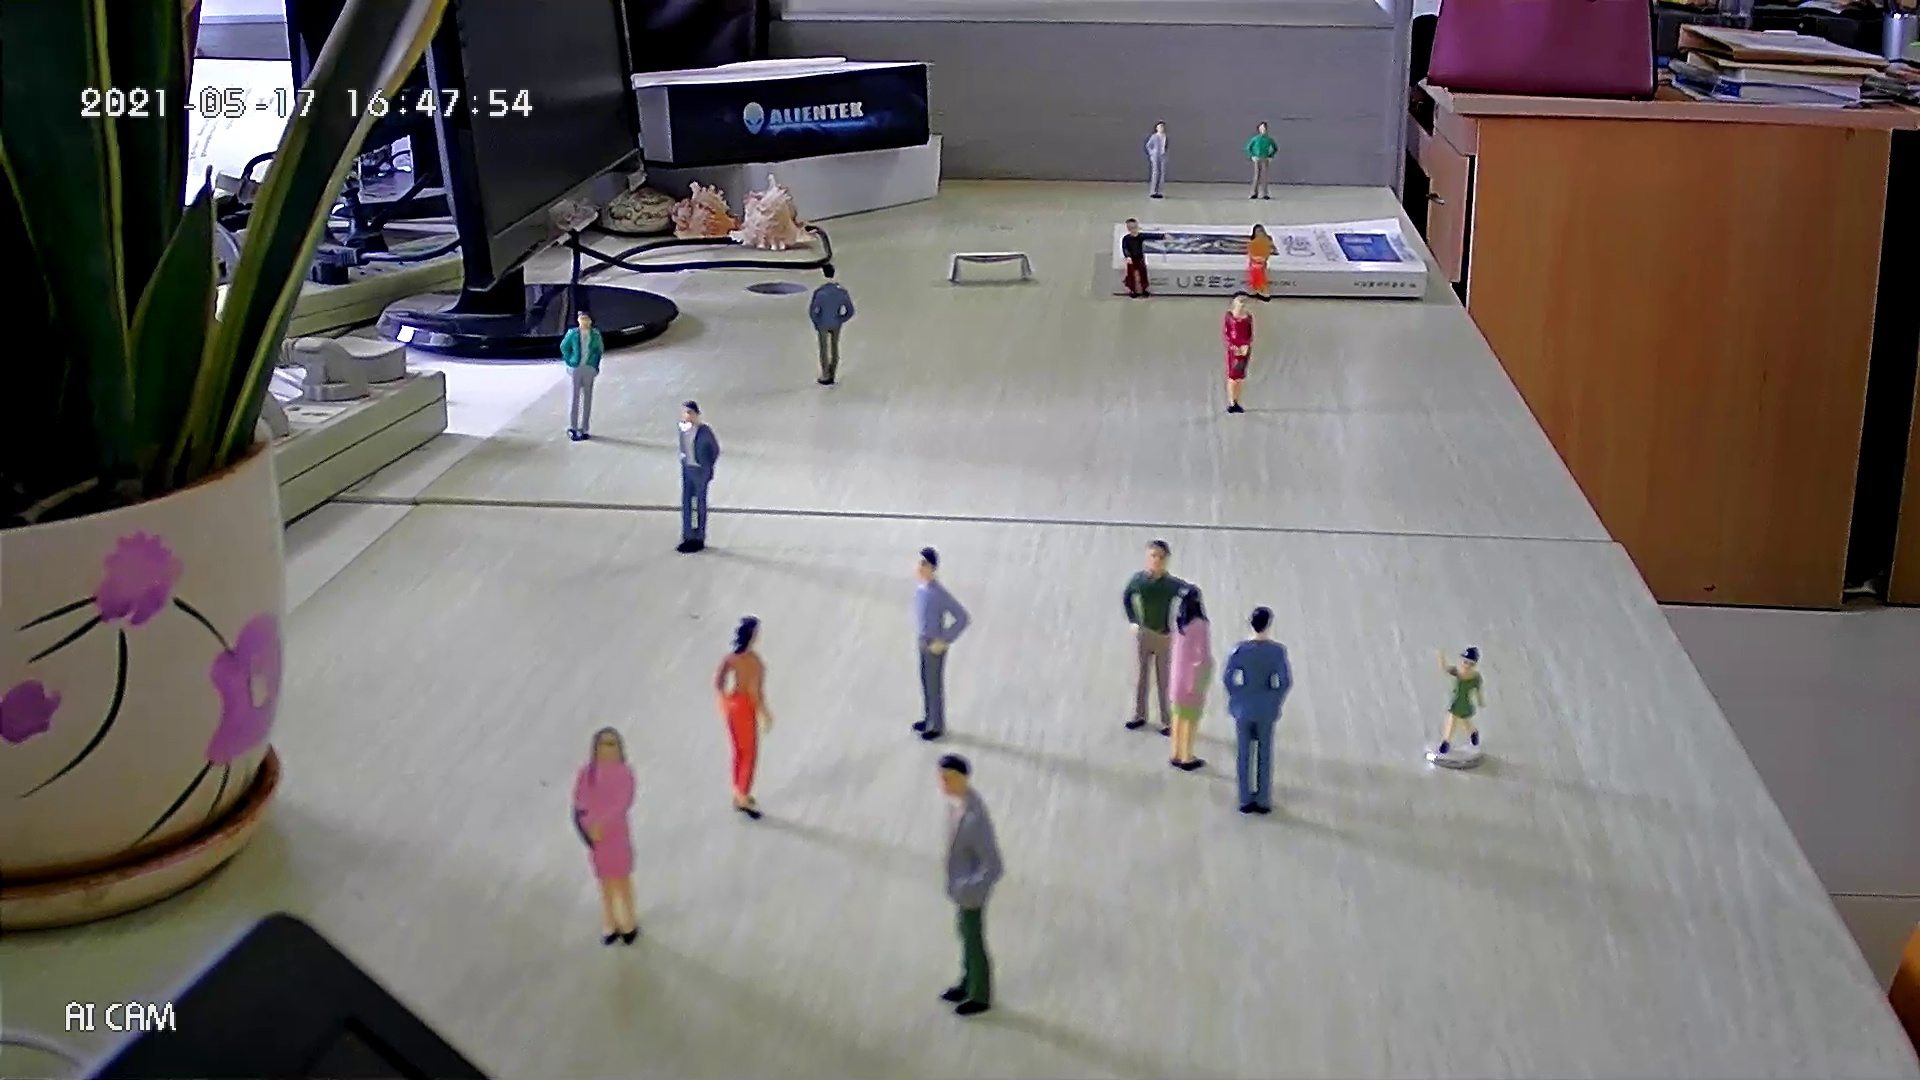person: (931, 746, 1009, 1020), (567, 722, 647, 950), (1217, 602, 1289, 820), (1119, 540, 1191, 744), (711, 612, 779, 820), (907, 542, 973, 742), (1171, 580, 1221, 770), (1425, 636, 1491, 754), (675, 398, 723, 556), (807, 258, 859, 388), (561, 302, 607, 444), (1121, 214, 1173, 300), (1221, 292, 1257, 418), (1241, 116, 1283, 204), (1243, 220, 1281, 306), (1141, 116, 1173, 202)
